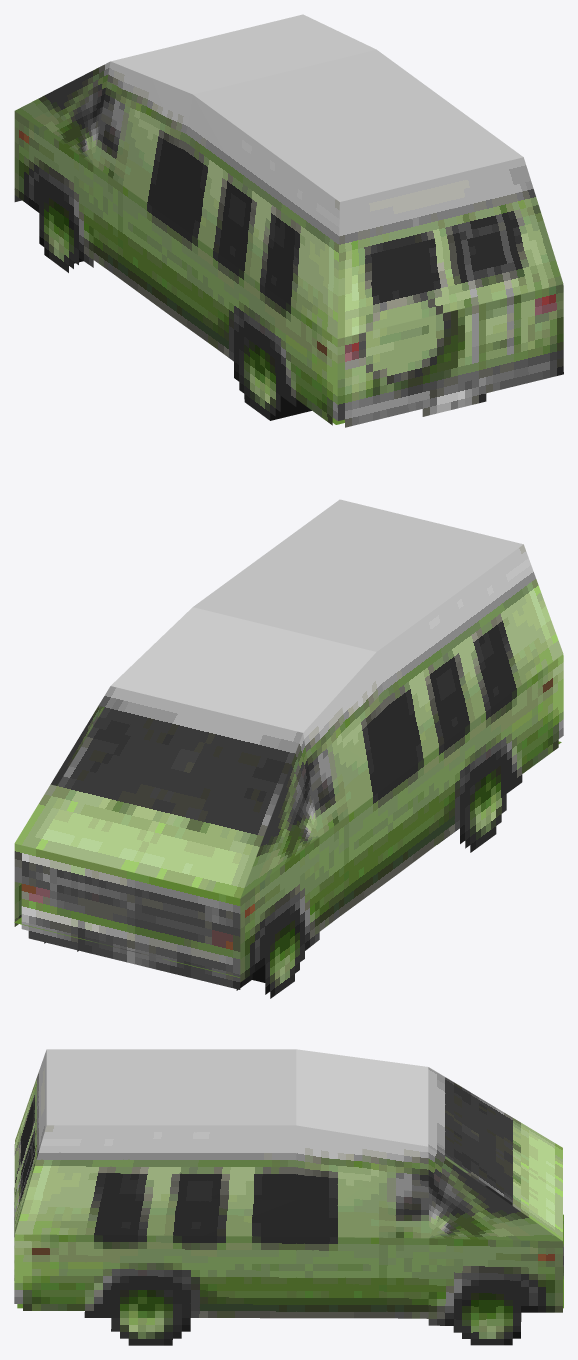
Rendered from car-vandura.glb.
3 renders of one model, top to bottom at view 1: azimuth 30°, elevation 25°; view 2: azimuth 150°, elevation 25°; view 3: azimuth 270°, elevation 25°, orthographic. The views are drawn at different scales.
Parts seen in each view (by area): view 1: plt0; view 2: plt0; view 3: plt0.
Part boxes in pixels (x1=…): plt0: x1=14, y1=14, x2=563, y2=427; plt0: x1=14, y1=499, x2=563, y2=998; plt0: x1=14, y1=1049, x2=563, y2=1345.
Size of the model in its own units: 2.02 by 2.12 by 5.01.
Materials: 16 (16 with a texture image).
